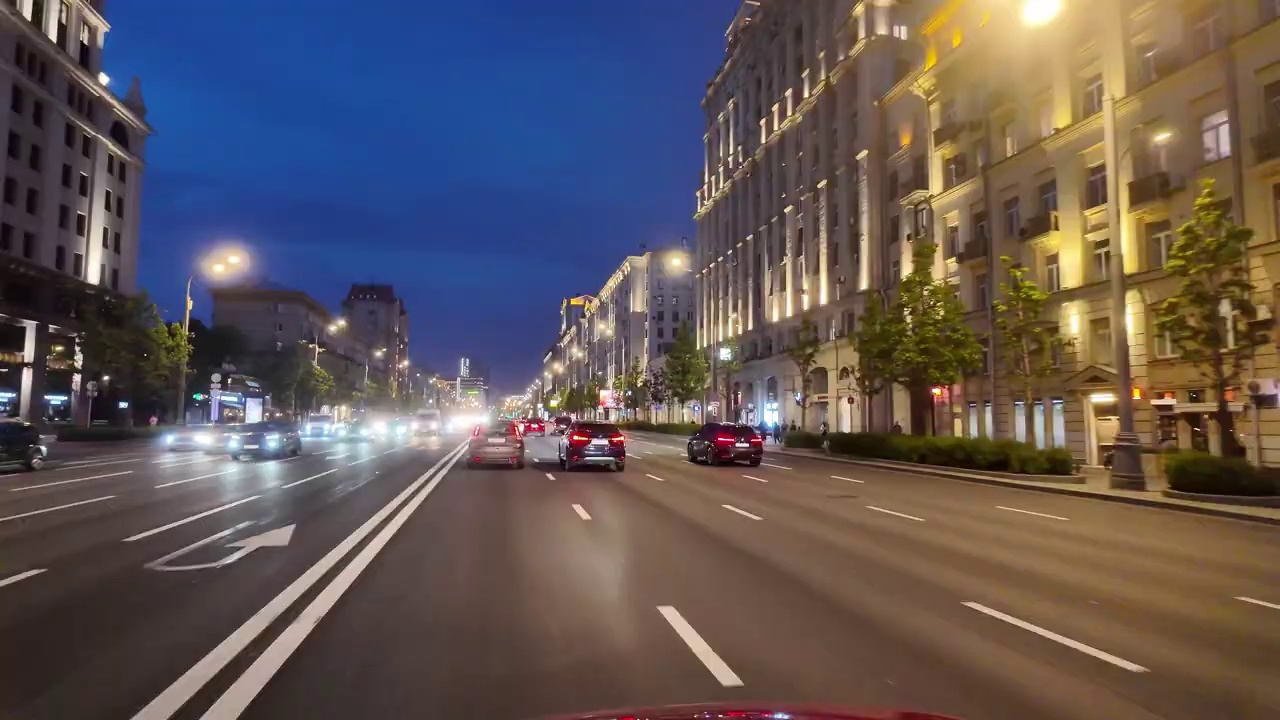acesa: (1006, 0, 1076, 36), (207, 247, 246, 280), (661, 250, 690, 276), (326, 316, 349, 337)
